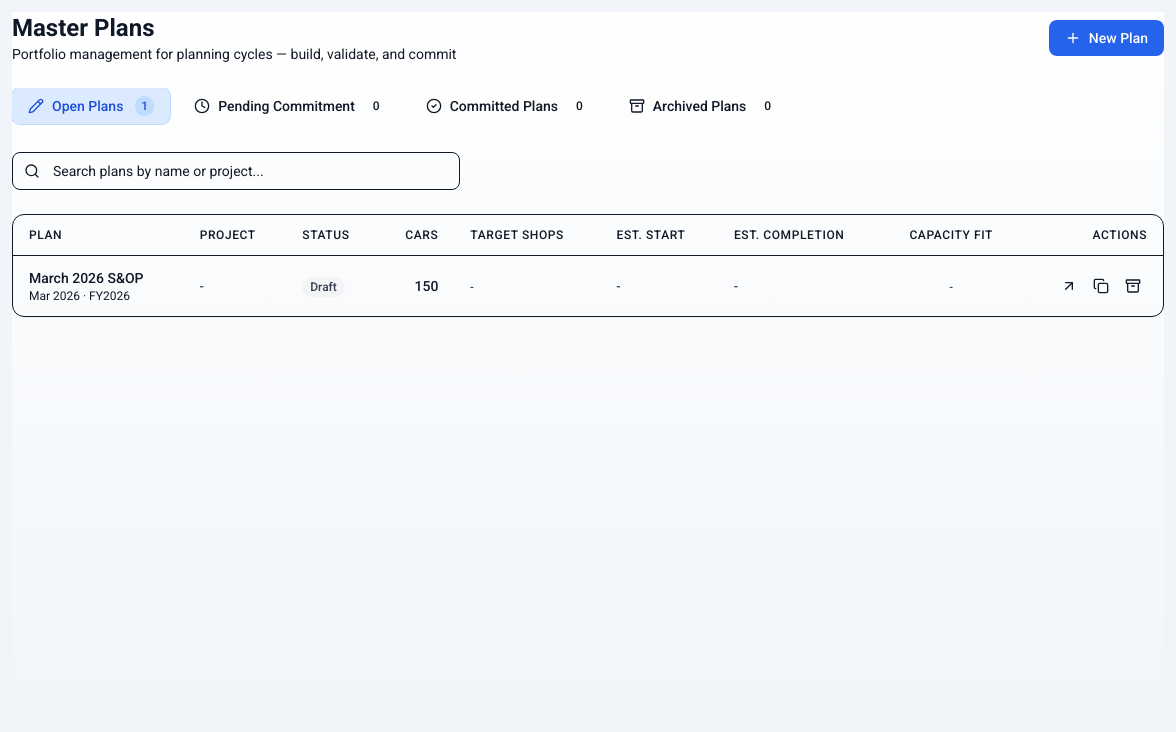
Test: MasterPlansPage › opens drawer when plan row clicked
Click the text "March 2026 S&OP": (86, 278) [29,270,144,286]
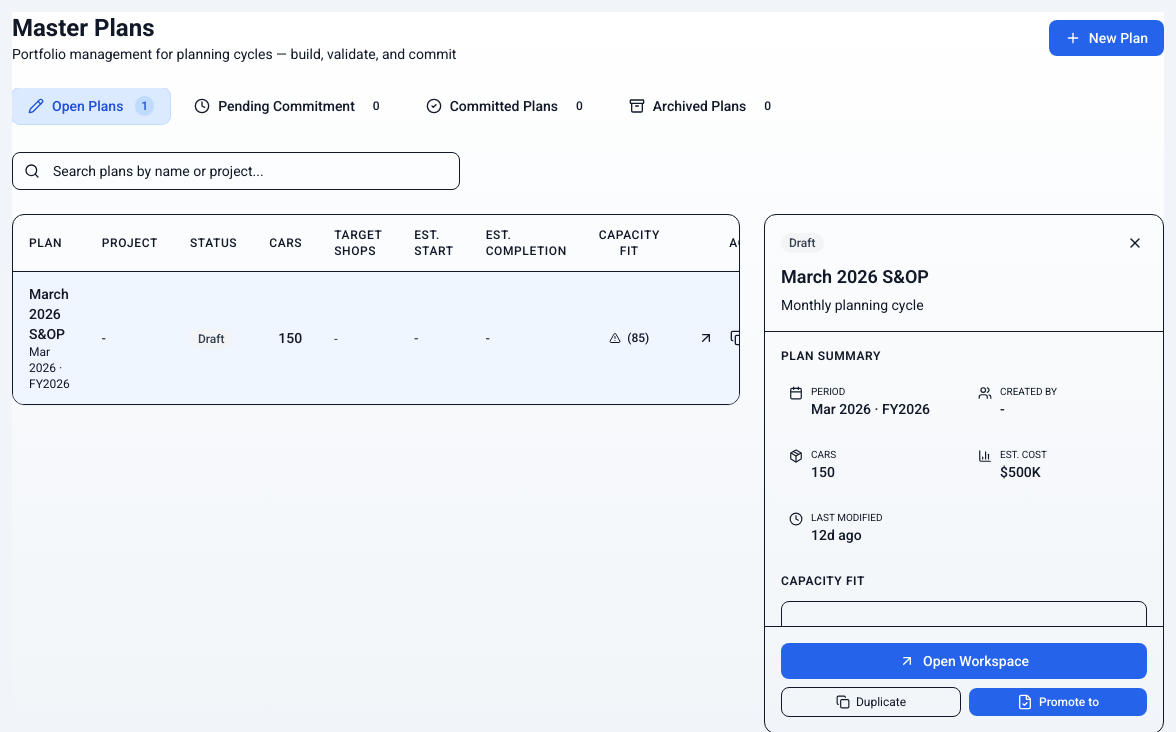
Expected: the heading "Plan Summary" is shown, [781,349,881,363]
Expected: the button "Open Workspace" is shown, [781,643,1147,679]
